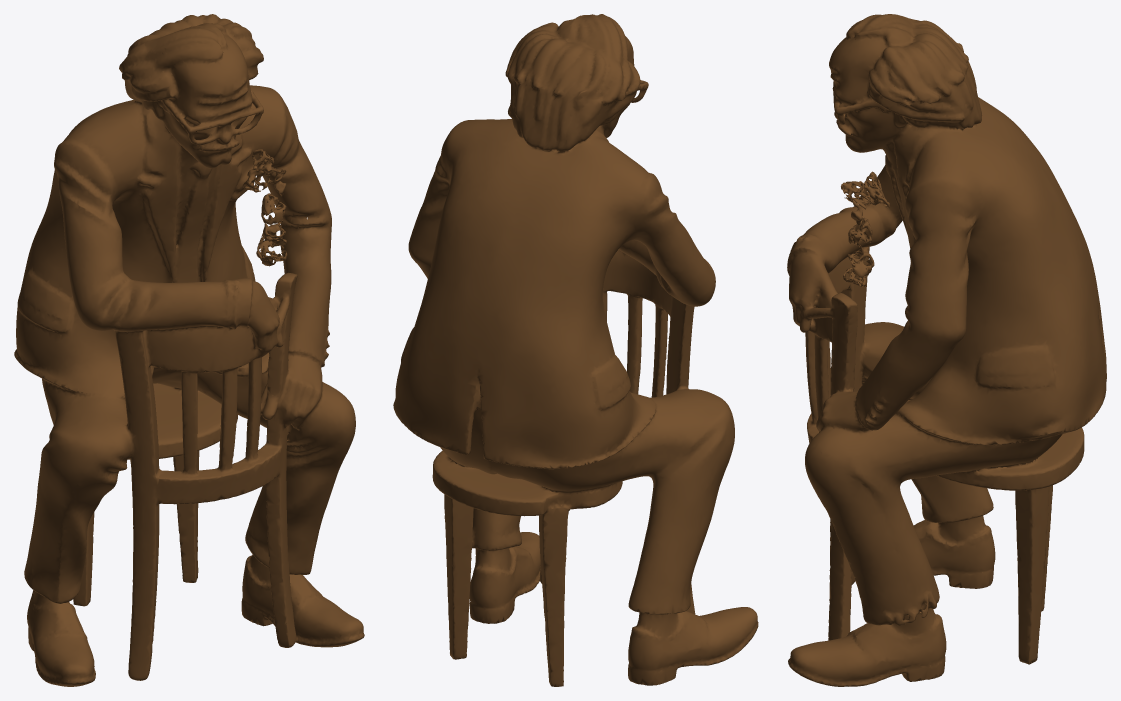
Rendered from refaat.glb.
3 renders of one model, left to right at view 1: azimuth 30°, elevation 25°; view 2: azimuth 150°, elevation 25°; view 3: azimuth 270°, elevation 25°, orthographic. The views are drawn at different scales.
Size of the model in its own units: 0.5217 by 1 by 0.4725.
